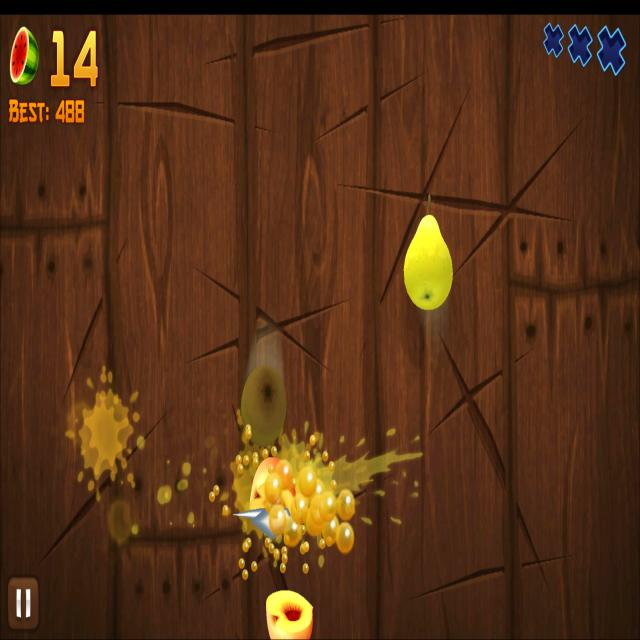fruit: (403, 214, 454, 313), (240, 363, 287, 449)
